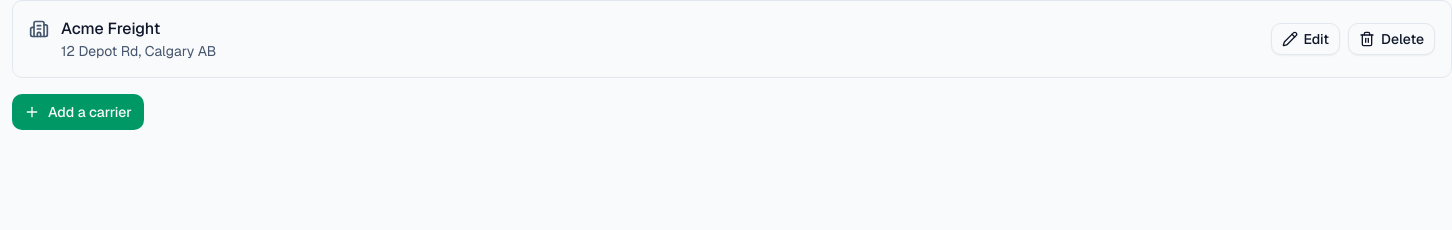
it: CarrierList › cancels an edit
The width and height of the screenshot is (1452, 230).
Click the button with aria-label "Edit Acme Freight": (1305, 39) [1271,23,1340,55]
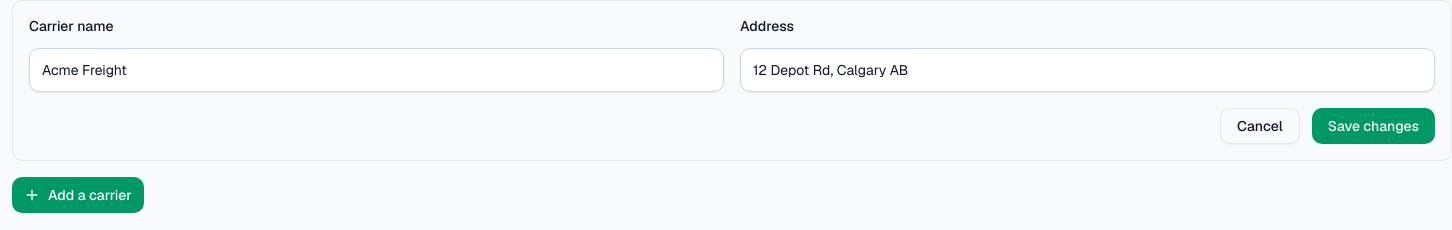
Click the button "Cancel": (1260, 126) [1220,108,1300,144]
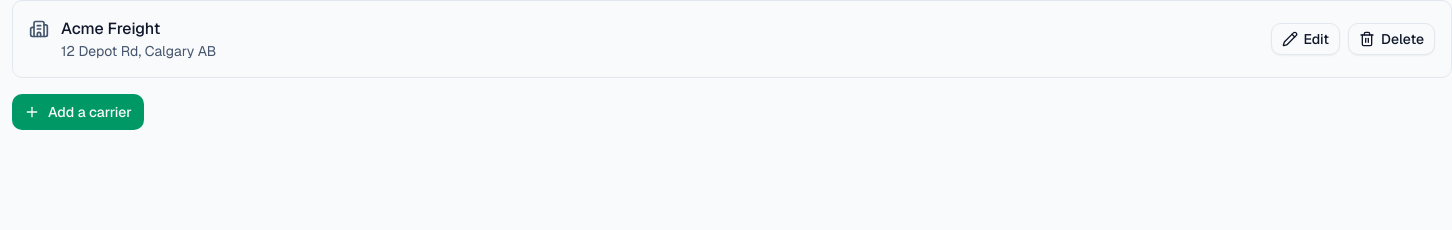
expect the text "Acme Freight" is shown: met, box [61,18,160,39]
